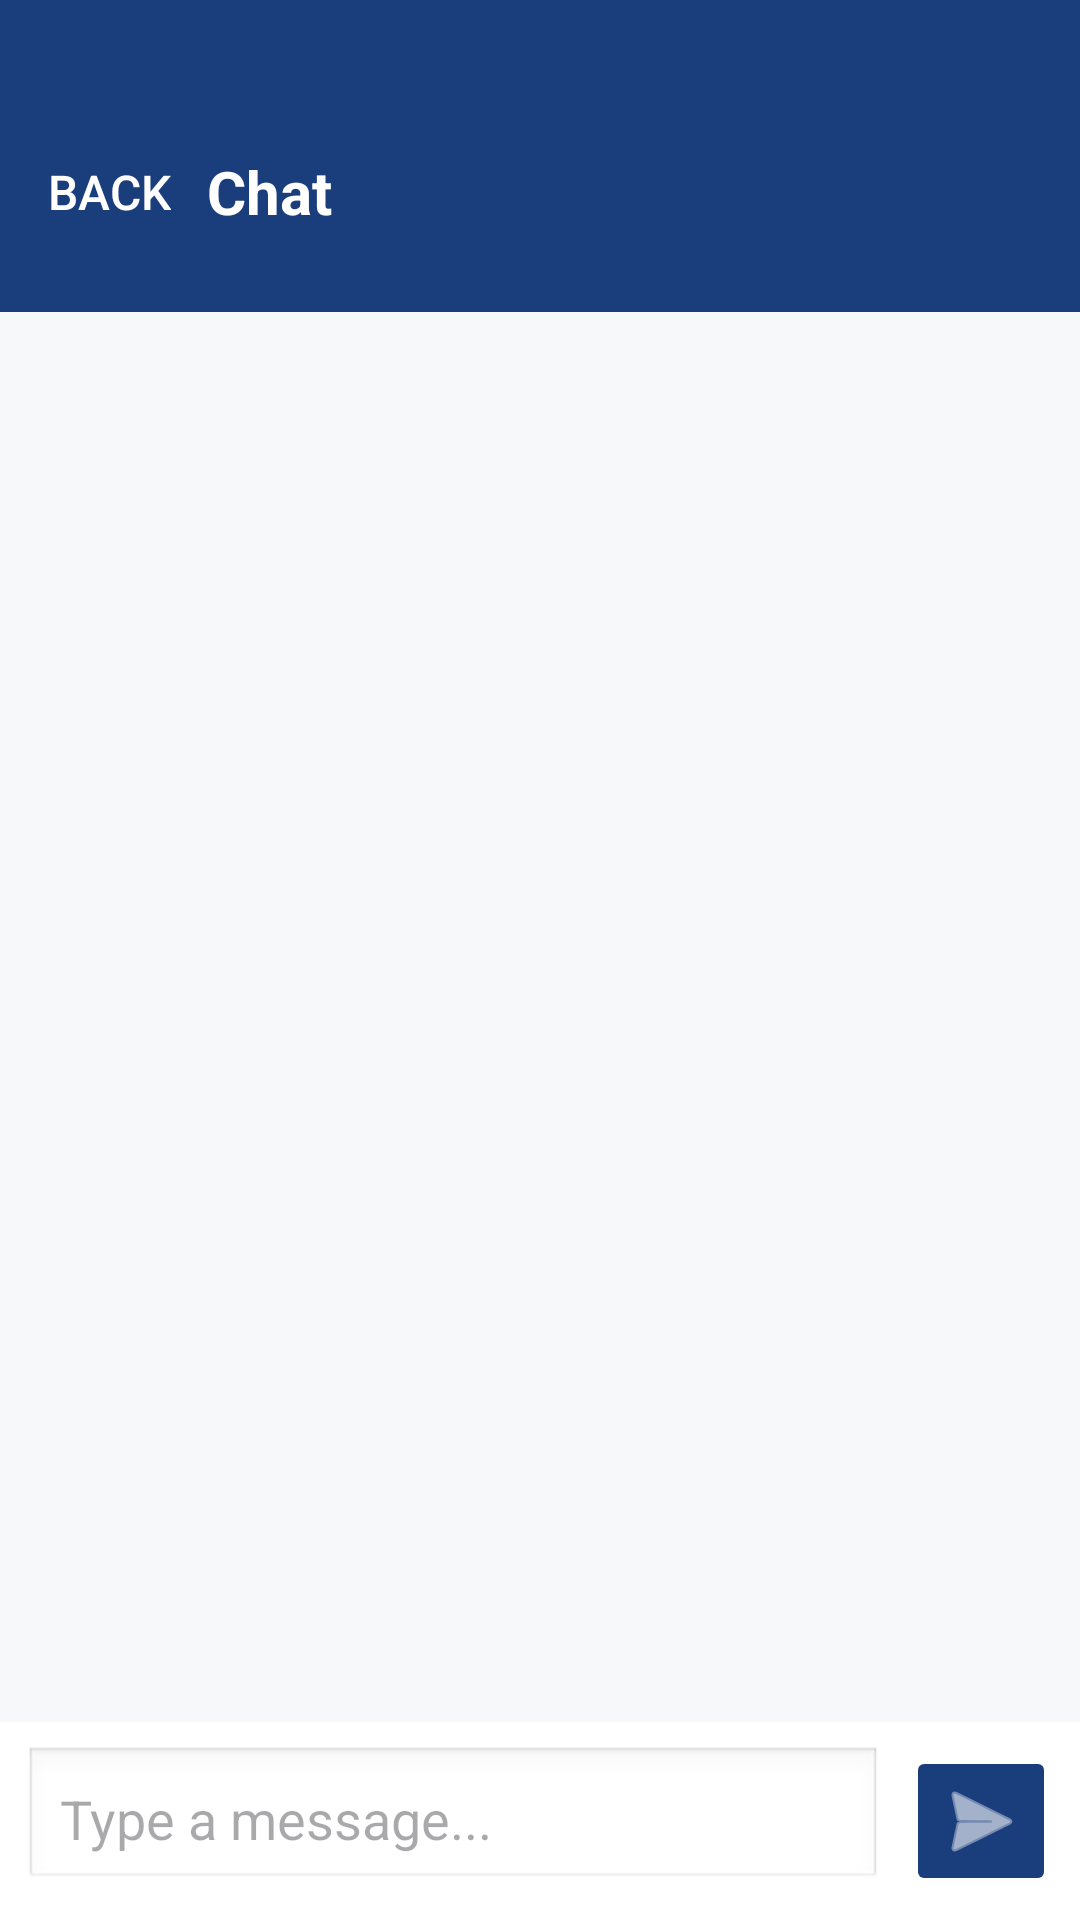

Named icons in this screenshot (1080x1920) and their bounding boxes, (x1, y1, x2, y2):
send: (918, 1764, 1044, 1878)
